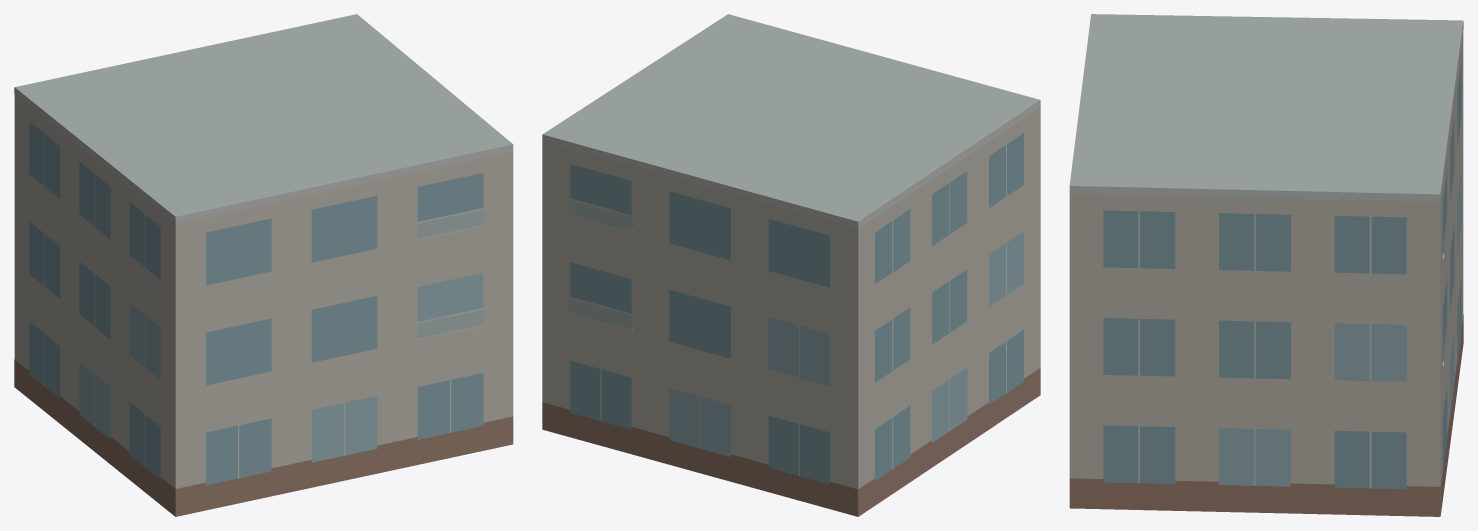
Rendered from survey-upis-32834065.glb.
3 views of the same model, side by side, from view 1: azimuth 30°, elevation 25°; view 2: azimuth 150°, elevation 25°; view 3: azimuth 270°, elevation 25° (orthographic). The views are drawn at different scales.
Visible parts, largest first — view 1: survey-upis-32834065.tmp; view 2: survey-upis-32834065.tmp; view 3: survey-upis-32834065.tmp.
Part boxes in pixels (x1=…): survey-upis-32834065.tmp: x1=14, y1=14, x2=513, y2=516; survey-upis-32834065.tmp: x1=542, y1=14, x2=1040, y2=516; survey-upis-32834065.tmp: x1=1069, y1=14, x2=1463, y2=516.
Bounding box in the file's own units: 12.49 × 10.4 × 11.53.
